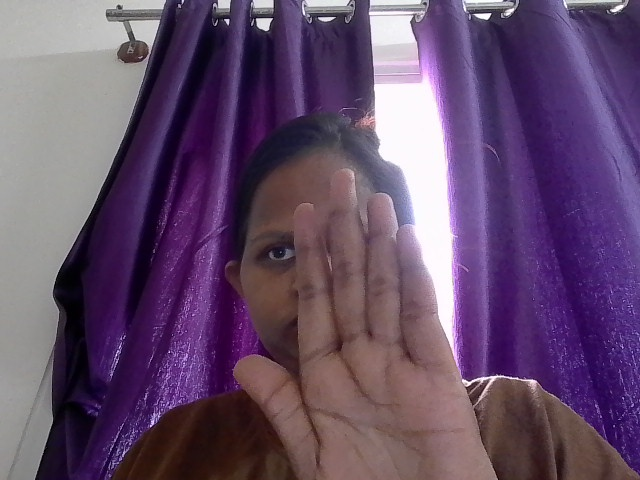HELLO: (161, 145, 609, 480)
